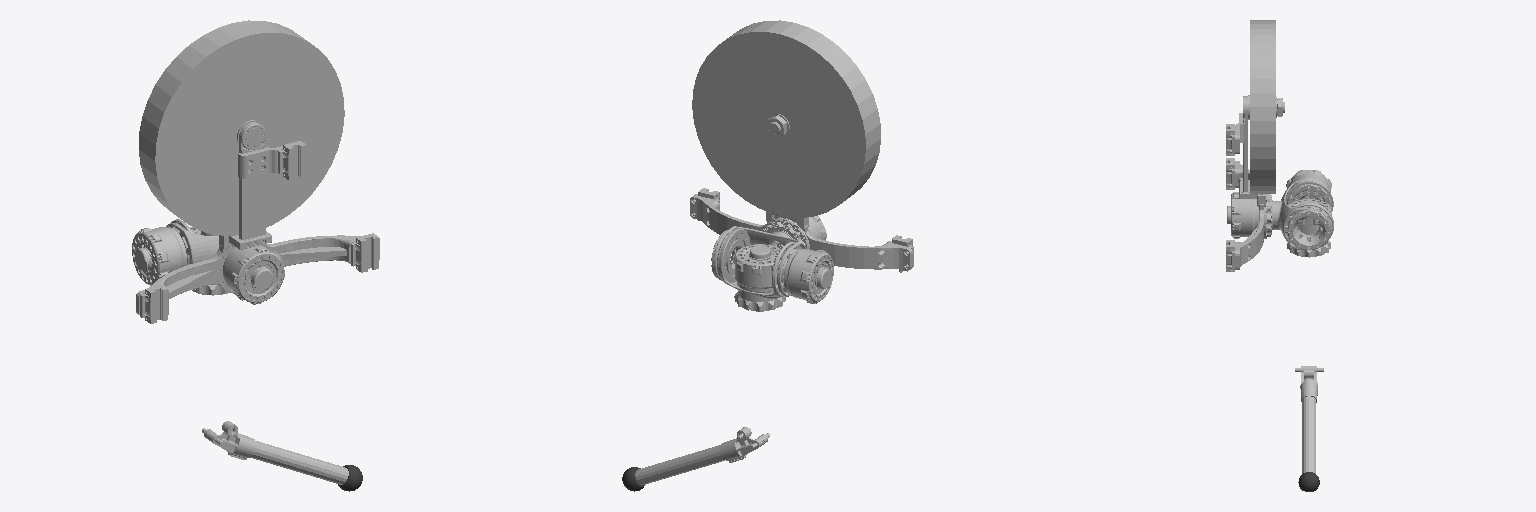
robot.urdf — fall_arm:
<robot name="fall_arm">
  <mujoco>
    <compiler meshdir="meshes" balanceinertia="true" discardvisual="true" />
  </mujoco>
  <link name="base_framework">
    <inertial>
      <origin xyz="0.007559 -0.202211 0.526639" rpy="0 0 0" />
      <mass value="29.522616" />
      <inertia ixx="5.158147" ixy="0.043837" ixz="0.046520" iyy="4.196063" iyz="0.841362" izz="2.421976" />
    </inertial>
    <visual>
      <origin xyz="0 0 0" rpy="0 0 0" />
      <geometry>
        <mesh filename="meshes/base_framework.stl" />
      </geometry>
      <material name="">
        <color rgba="0.752941176470588 0.752941176470588 0.752941176470588 1" />
      </material>
    </visual>
    <!--
    <collision>
      <origin xyz="0 0 0" rpy="0 0 0" />
      <geometry>
        <mesh filename="meshes/base_framework.stl" />
      </geometry>
    </collision>
    -->
  </link>
  <link name="left_shoulder_root_link">
    <inertial>
      <origin xyz="0.001176 -0.009799 0.204169" rpy="0 0 0" />
      <mass value="18.990506" />
      <inertia ixx="0.288718" ixy="-0.001255" ixz="-0.000094" iyy="0.439755" iyz="0.022268" izz="0.172125" />
    </inertial>
    <visual>
      <origin xyz="0 0 0" rpy="0 0 0" />
      <geometry>
        <mesh filename="meshes/left_shoulder_root_link.stl" />
      </geometry>
      <material name="">
        <color rgba="0.752941176470588 0.752941176470588 0.752941176470588 1" />
      </material>
    </visual>
    <collision>
      <origin xyz="0 0 0" rpy="0 0 0" />
      <geometry>
        <mesh filename="meshes/left_shoulder_root_link.stl" />
      </geometry>
    </collision>
  </link>
  <joint name="left_shoulder_root_joint" type="prismatic">
    <origin xyz="0 0.114 0" rpy="0 0 0" />
    <parent link="base_framework" />
    <child link="left_shoulder_root_link" />
    <axis xyz="0 0 1" />
    <limit lower="0" upper="1" effort="144" velocity="20" />
  </joint>
  <link name="left_shoulder_pitch_link">
    <inertial>
      <origin xyz="-0.065159 -0.008213 -0.000002" rpy="0 0 0" />
      <mass value="2.091290" />
      <inertia ixx="0.002988" ixy="-0.001120" ixz="0.000000" iyy="0.008811" iyz="0.000000" izz="0.009697" />
    </inertial>
    <visual>
      <origin xyz="0 0 0" rpy="0 0 0" />
      <geometry>
        <mesh filename="meshes/left_shoulder_pitch_link.stl" />
      </geometry>
      <material name="">
        <color rgba="0.752941176470588 0.752941176470588 0.752941176470588 1" />
      </material>
    </visual>
    <collision>
      <origin xyz="0 0 0" rpy="0 0 0" />
      <geometry>
        <mesh filename="meshes/left_shoulder_pitch_link.stl" />
      </geometry>
    </collision>
  </link>
  <joint name="left_shoulder_pitch_joint" type="revolute">
    <origin xyz="0 0.0930000000000007 0" rpy="0 0 0" />
    <parent link="left_shoulder_root_link" />
    <child link="left_shoulder_pitch_link" />
    <axis xyz="0 1 0" />
    <limit lower="0.0" upper="1.5707963267948966" effort="144" velocity="20"/>
  </joint>
  <link name="left_shoulder_roll_link">
    <inertial>
      <origin xyz="-0.000494 -0.000004 -0.018279" rpy="0 0 0" />
      <mass value="2.026461" />
      <inertia ixx="0.002525" ixy="0.000000" ixz="-0.000010" iyy="0.003100" iyz="0.000000" izz="0.002794" />
    </inertial>
    <visual>
      <origin xyz="0 0 0" rpy="0 0 0" />
      <geometry>
        <mesh filename="meshes/left_shoulder_roll_link.stl" />
      </geometry>
      <material name="">
        <color rgba="0.752941176470588 0.752941176470588 0.752941176470588 1" />
      </material>
    </visual>
    <collision>
      <origin xyz="0 0 0" rpy="0 0 0" />
      <geometry>
        <mesh filename="meshes/left_shoulder_roll_link.stl" />
      </geometry>
    </collision>
  </link>
  <joint name="left_shoulder_roll_joint" type="revolute">
    <origin xyz="0 0 0" rpy="0 0 0" />
    <parent link="left_shoulder_pitch_link" />
    <child link="left_shoulder_roll_link" />
    <axis xyz="1 0 0" />
    <limit lower="-0.17453292519943295" upper="0.17453292519943295" effort="144" velocity="20"/>
  </joint>
  <link name="left_shoulder_yaw_link">
    <inertial>
      <origin xyz="0.001875 0.000003 -0.073086" rpy="0 0 0" />
      <mass value="1.823711" />
      <inertia ixx="0.010073" ixy="0.000000" ixz="-0.000721" iyy="0.009979" iyz="0.000001" izz="0.001342" />
    </inertial>
    <visual>
      <origin xyz="0 0 0" rpy="0 0 0" />
      <geometry>
        <mesh filename="meshes/left_shoulder_yaw_link.stl" />
      </geometry>
      <material name="">
        <color rgba="0.752941176470588 0.752941176470588 0.752941176470588 1" />
      </material>
    </visual>
    <collision>
      <origin xyz="0 0 0" rpy="0 0 0" />
      <geometry>
        <mesh filename="meshes/left_shoulder_yaw_link.stl" />
      </geometry>
    </collision>
  </link>
  <joint name="left_shoulder_yaw_joint" type="revolute">
    <origin xyz="0 0 -0.092" rpy="0 0 0" />
    <parent link="left_shoulder_roll_link" />
    <child link="left_shoulder_yaw_link" />
    <axis xyz="0 0 -1" />
    <limit lower="-0.17453292519943295" upper="0.17453292519943295" effort="144" velocity="20"/>
  </joint>
  <link name="left_elbow_link">
    <inertial>
      <origin xyz="0.002256 -0.000005 -0.089431" rpy="0 0 0" />
      <mass value="0.192646" />
      <inertia ixx="0.001579" ixy="0.000000" ixz="0.000028" iyy="0.001579" iyz="0.000000" izz="0.000045" />
    </inertial>
    <visual>
      <origin xyz="0 0 0" rpy="0 0 0" />
      <geometry>
        <mesh filename="meshes/left_elbow_link.stl" />
      </geometry>
      <material name="">
        <color rgba="0.752941176470588 0.752941176470588 0.752941176470588 1" />
      </material>
    </visual>
    <collision>
      <origin xyz="0 0 0" rpy="0 0 0" />
      <geometry>
        <mesh filename="meshes/left_elbow_link.stl" />
      </geometry>
    </collision>
  </link>
  <joint name="left_elbow_joint" type="revolute">
    <origin xyz="0 0 -0.261" rpy="0 0 0" />
    <parent link="left_shoulder_yaw_link" />
    <child link="left_elbow_link" />
    <axis xyz="0 -1 0" />
    <limit lower="0.17453292519943295" upper="2.007128639793479" effort="173" velocity="20"/>
  </joint>
  <link name="end_effector">
    <inertial>
      <origin xyz="0.000000 0.000000 -0.017741" rpy="0 0 0" />
      <mass value="0.026024" />
      <inertia ixx="0.000006" ixy="0.000000" ixz="0.000000" iyy="0.000006" iyz="0.000000" izz="0.000007" />
    </inertial>
    <visual>
      <origin xyz="0 0 0" rpy="0 0 0" />
      <geometry>
        <mesh filename="meshes/end_effector.stl" />
      </geometry>
      <material name="">
        <color rgba="0.298039215686275 0.298039215686275 0.298039215686275 1" />
      </material>
    </visual>
    <collision>
      <origin xyz="0 0 0" rpy="0 0 0" />
      <geometry>
        <mesh filename="meshes/end_effector.stl" />
      </geometry>
    </collision>
  </link>
  <joint name="end_effector_joint" type="fixed" dont_collapse="true">
    <origin xyz="0 0 -0.279" rpy="0 0 0" />
    <parent link="left_elbow_link" />
    <child link="end_effector" />
    <axis xyz="0 0 0" />
  </joint>
</robot>

--- What the picture shows (computed from the rendered views, not written in the file) ---
3 views of the same robot in one strip: view 1: azimuth 30°, elevation 25°; view 2: azimuth 150°, elevation 25°; view 3: azimuth 270°, elevation 25° (orthographic).
Model fall_arm with 7 links and 6 joints (4 revolute, 1 prismatic, 1 fixed), rooted at base_framework, posed all joints at 0 but 1 set to mid-range because 0 is outside their limits (left_elbow_joint = 1.09).
Links seen in each view (by area): view 1: left_shoulder_root_link, left_shoulder_pitch_link, left_elbow_link; view 2: left_shoulder_root_link, left_shoulder_pitch_link, left_shoulder_roll_link, left_elbow_link; view 3: left_shoulder_root_link, left_shoulder_pitch_link, left_shoulder_roll_link, left_elbow_link.
Link boxes in pixels (bbox=[...]): left_shoulder_root_link: bbox=[136, 20, 379, 323]; left_shoulder_pitch_link: bbox=[132, 223, 218, 285]; left_elbow_link: bbox=[202, 421, 348, 484]; left_shoulder_root_link: bbox=[690, 20, 913, 272]; left_shoulder_pitch_link: bbox=[711, 226, 833, 303]; left_shoulder_roll_link: bbox=[717, 229, 794, 311]; left_elbow_link: bbox=[635, 427, 769, 484]; left_shoulder_root_link: bbox=[1226, 20, 1284, 271]; left_shoulder_pitch_link: bbox=[1272, 170, 1331, 249]; left_shoulder_roll_link: bbox=[1286, 181, 1333, 257]; left_elbow_link: bbox=[1295, 366, 1323, 473].
Size in the robot's own frame: 0.5104 by 0.2246 by 0.9362 metres.
Meshes: 7 distinct files referenced, 5 mesh visuals loaded (5 binary STL); not drawn: 2 (reference not matched to a file when rendering).
